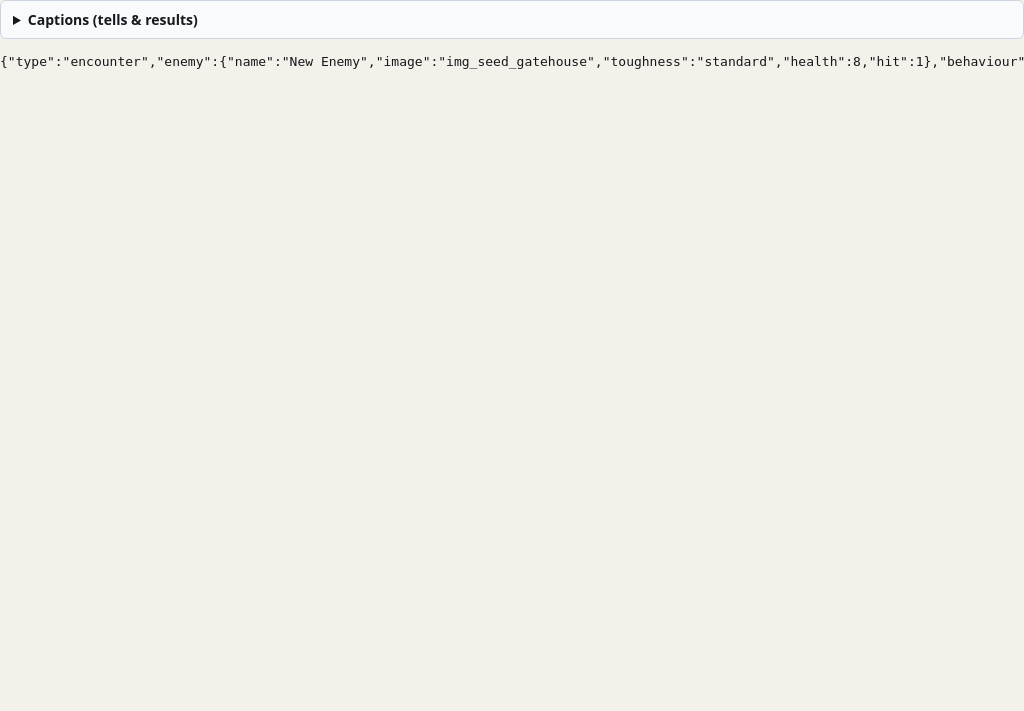
Test: CaptionEditor › prevents adding a fourth caption to any pool
Later steps or results of the test are not shown.
Click the heading "Captions (tells & results)" at [113, 20], box [28,10,198,29]
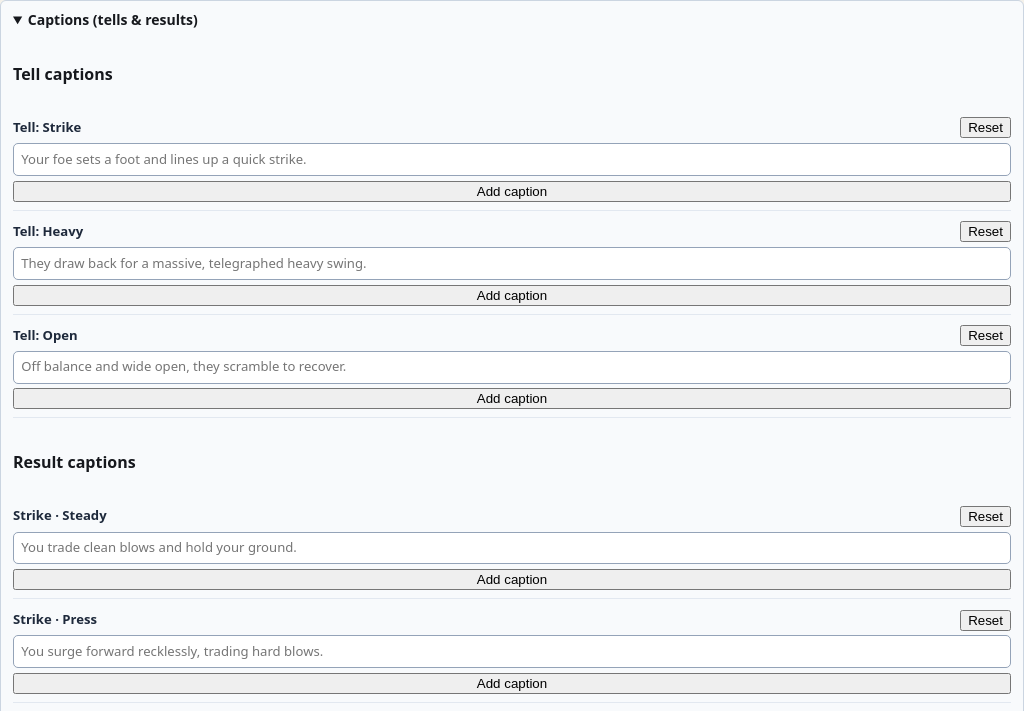
Click the button with aria-label "Add strike tell caption" at [512, 191], box [13,181,1011,202]
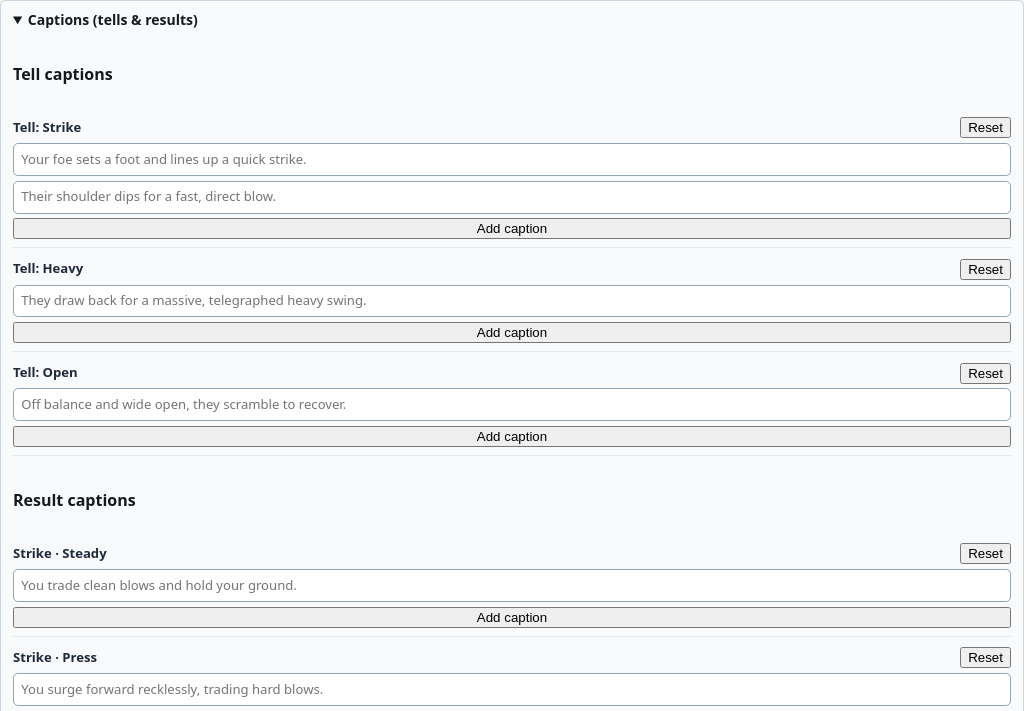
Click the button with aria-label "Add strike tell caption" at [512, 229], box [13,218,1011,239]
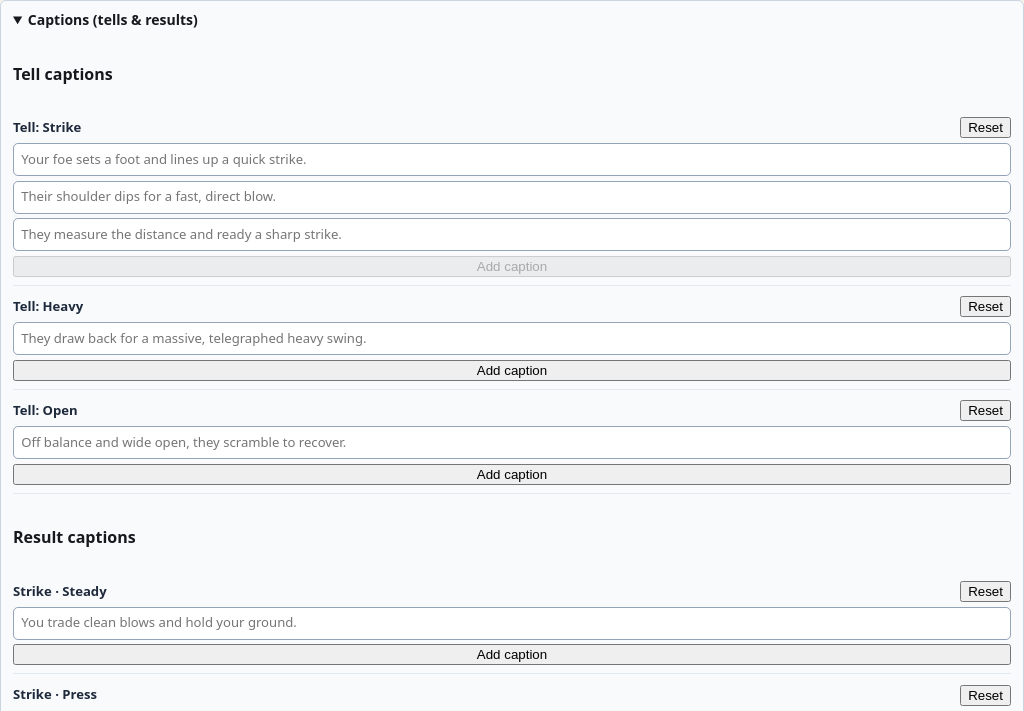
Now the field named "Tell strike caption 3" is shown, box [13,218,1011,251]
Now the button with aria-label "Add strike tell caption" is disabled, box [13,256,1011,277]
